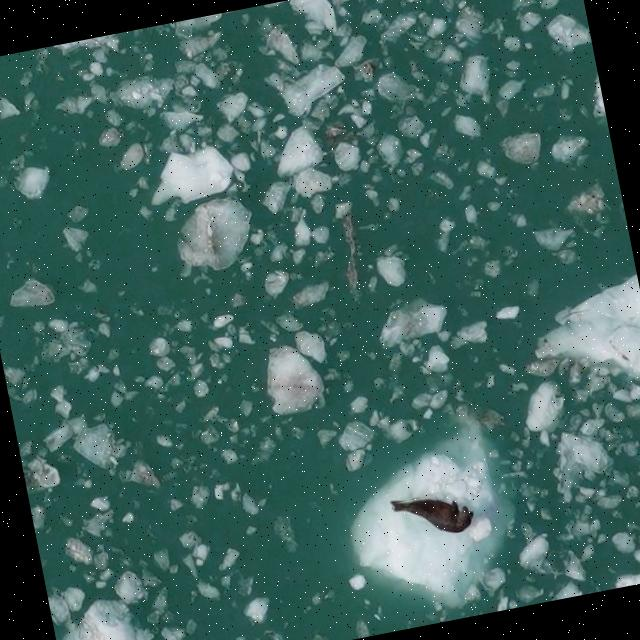seal: (389, 495, 476, 536)
